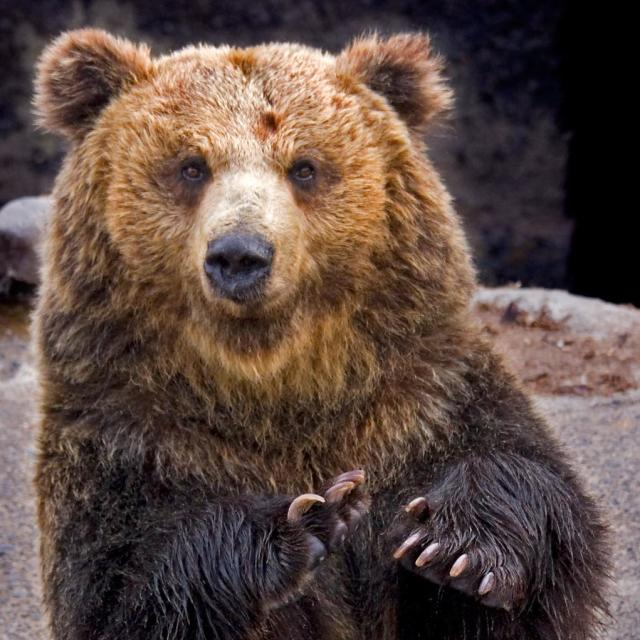Cheetahs: (27, 25, 620, 640)
